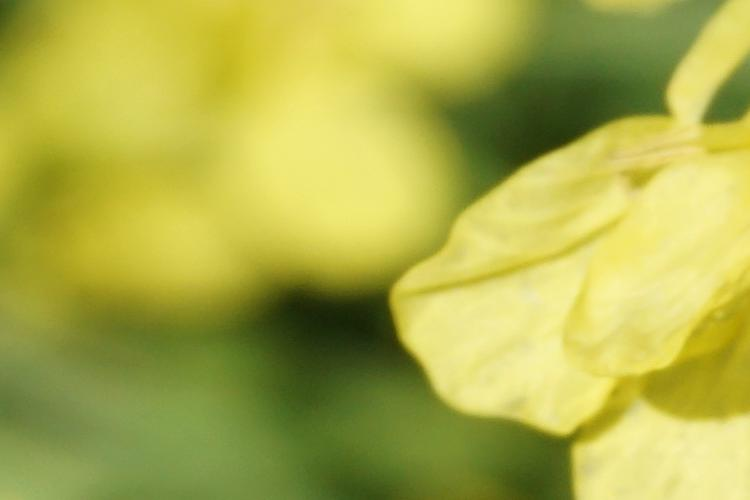yellow: (421, 96, 750, 494)
